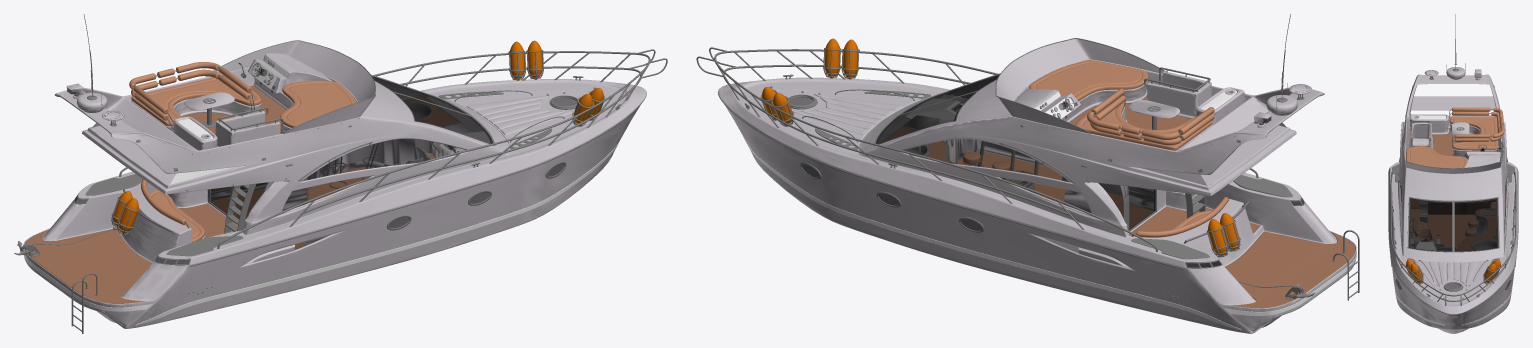
File: modelo.glb
3 views of the same model, side by side, from view 1: azimuth 30°, elevation 25°; view 2: azimuth 150°, elevation 25°; view 3: azimuth 270°, elevation 25° (orthographic). The views are drawn at different scales.
Visible parts, largest first — view 1: arch48_003_obj_04, arch48_003_obj_00, arch48_003_obj_03.001, arch48_003_obj_05, arch48_003_obj_07, arch48_003_obj_06_4, arch48_003_obj_08, arch48_003_obj_02, Layer 01, arch48_003_obj_09; view 2: arch48_003_obj_04, arch48_003_obj_00, arch48_003_obj_03.001, arch48_003_obj_07, arch48_003_obj_05, arch48_003_obj_06_4, arch48_003_obj_08, arch48_003_obj_02, Layer 01, arch48_003_obj_09; view 3: arch48_003_obj_04, arch48_003_obj_07, arch48_003_obj_00, arch48_003_obj_05, arch48_003_obj_06_3, Layer 01, arch48_003_obj_03.001, arch48_003_obj_06_4, arch48_003_obj_08, arch48_003_obj_02.
Boxes of the visible parts, box(x1,y1,x2,y2) form: arch48_003_obj_04: box(23, 53, 646, 328); arch48_003_obj_00: box(14, 14, 667, 333); arch48_003_obj_03.001: box(25, 85, 457, 303); arch48_003_obj_05: box(129, 62, 433, 242); arch48_003_obj_07: box(211, 76, 492, 218); arch48_003_obj_06_4: box(206, 41, 374, 133); arch48_003_obj_08: box(24, 56, 621, 325); arch48_003_obj_02: box(113, 40, 603, 233); Layer 01: box(211, 167, 375, 249); arch48_003_obj_09: box(75, 98, 576, 263); arch48_003_obj_04: box(718, 59, 1356, 333); arch48_003_obj_00: box(696, 14, 1359, 300); arch48_003_obj_03.001: box(884, 95, 1355, 308); arch48_003_obj_07: box(875, 75, 1155, 229); arch48_003_obj_05: box(963, 60, 1228, 237); arch48_003_obj_06_4: box(996, 39, 1163, 133); arch48_003_obj_08: box(744, 89, 1356, 330); arch48_003_obj_02: box(762, 38, 1239, 257); Layer 01: box(957, 151, 1153, 228); arch48_003_obj_09: box(789, 97, 1303, 267); arch48_003_obj_04: box(1388, 67, 1518, 333); arch48_003_obj_07: box(1400, 185, 1506, 251); arch48_003_obj_00: box(1388, 14, 1518, 314); arch48_003_obj_05: box(1406, 107, 1506, 240); arch48_003_obj_06_3: box(1411, 96, 1495, 110); Layer 01: box(1426, 215, 1475, 245); arch48_003_obj_03.001: box(1408, 128, 1498, 250); arch48_003_obj_06_4: box(1403, 142, 1503, 173); arch48_003_obj_08: box(1392, 115, 1514, 325); arch48_003_obj_02: box(1406, 259, 1500, 283).
Size of the model in its own units: 13.31 by 6.42 by 3.88.
